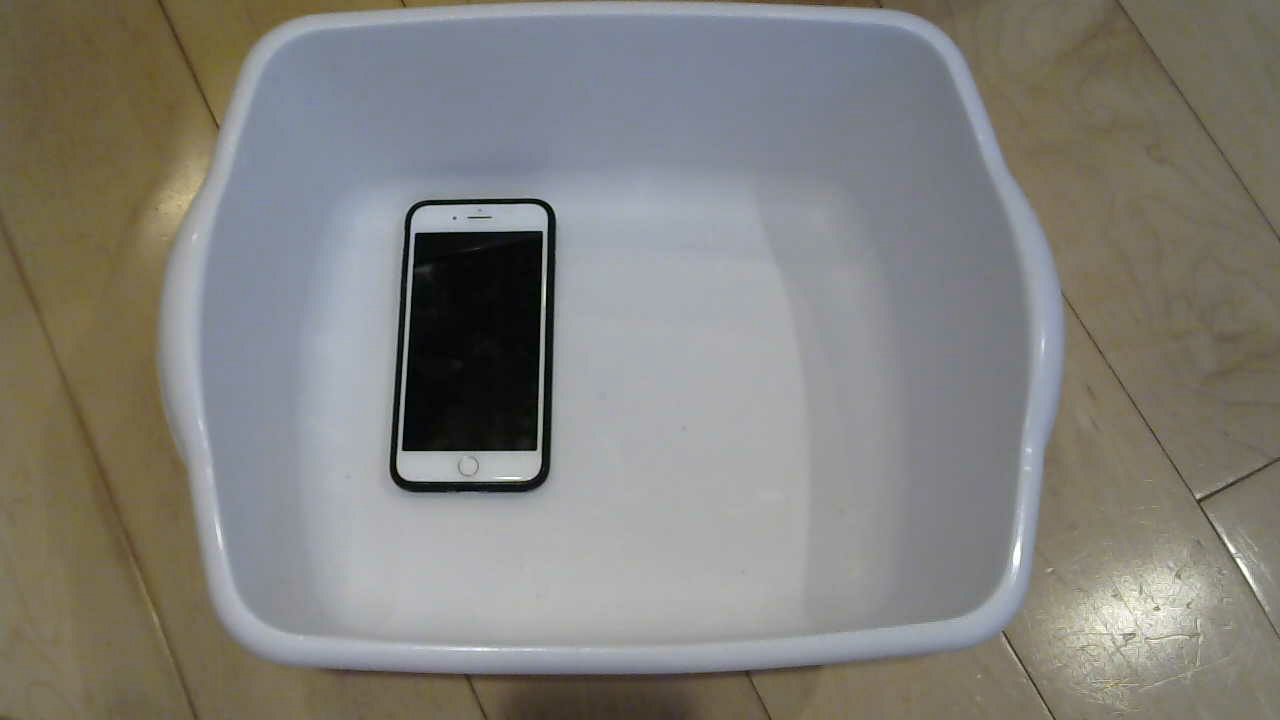phone: (378, 192, 569, 524)
